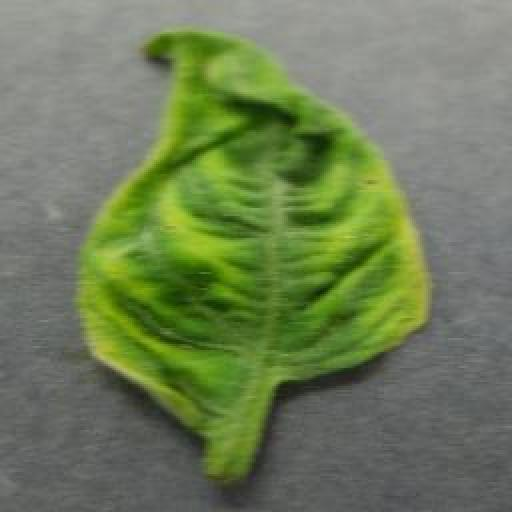disease_tomato: (82, 27, 432, 437)
